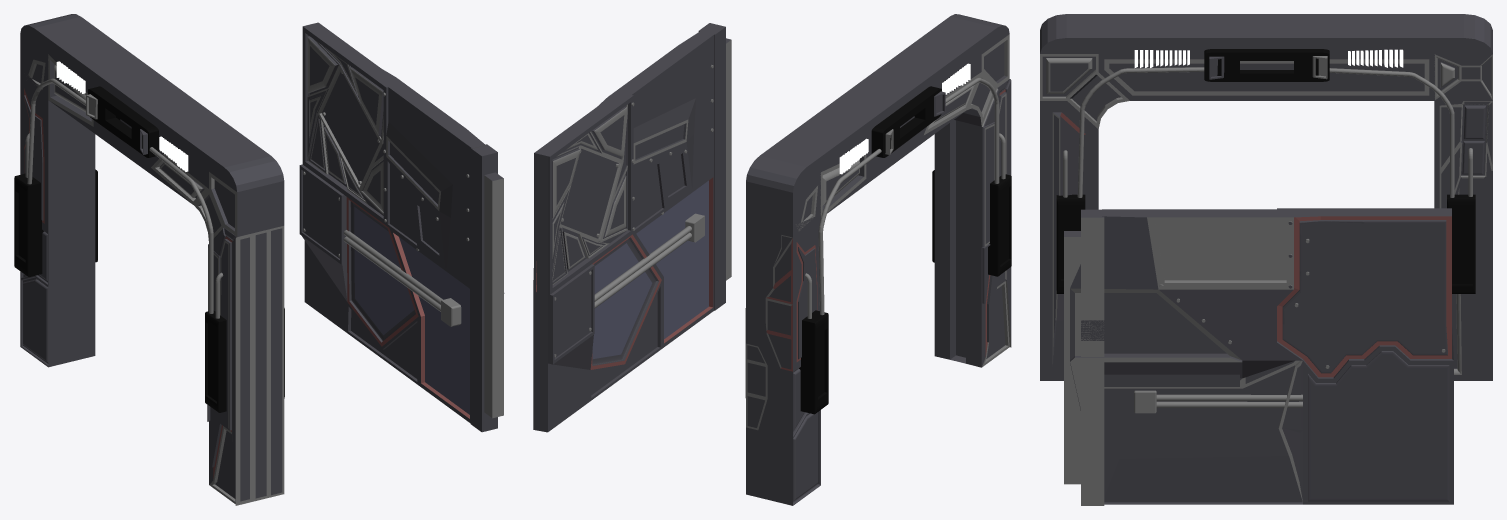
Rendered from DOORBLENDGOOD.fbx.
3 renders of one model, left to right at view 1: azimuth 30°, elevation 25°; view 2: azimuth 150°, elevation 25°; view 3: azimuth 270°, elevation 25°, orthographic. The views are drawn at different scales.
Visible parts, largest first — view 1: Cube, Door; view 2: Cube, Door; view 3: Door, Cube.
Boxes of the visible parts, x1,y1,x2,y2 form: Cube: [14, 14, 284, 505]; Door: [299, 22, 504, 432]; Cube: [745, 14, 1011, 505]; Door: [533, 23, 731, 432]; Door: [1064, 208, 1453, 505]; Cube: [1040, 14, 1492, 380].
Bounding box in the file's own units: 573 × 615 × 724.
